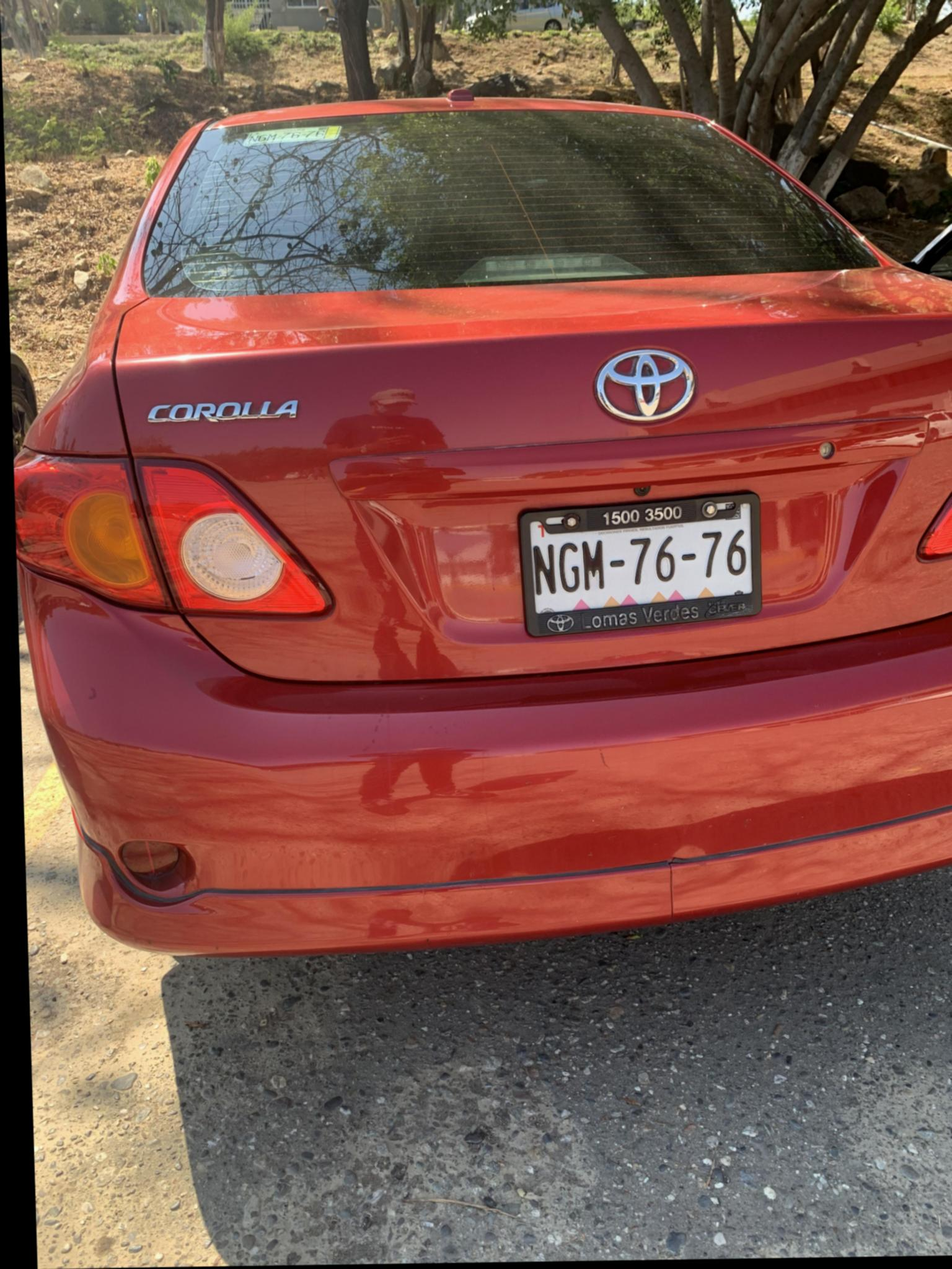License_Plate: (489, 489, 777, 641)
